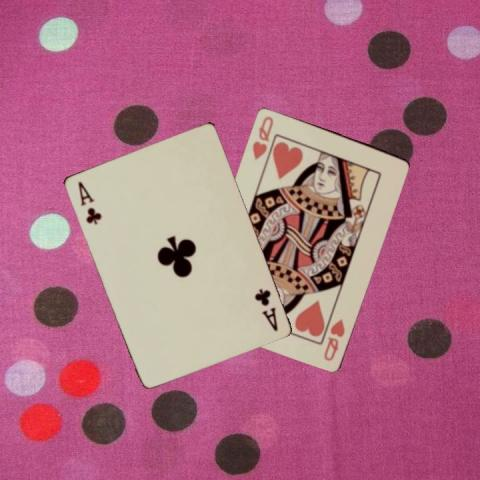Ac: (251, 285, 279, 333), (75, 178, 102, 226)
Qh: (248, 113, 274, 161), (321, 315, 346, 362)
